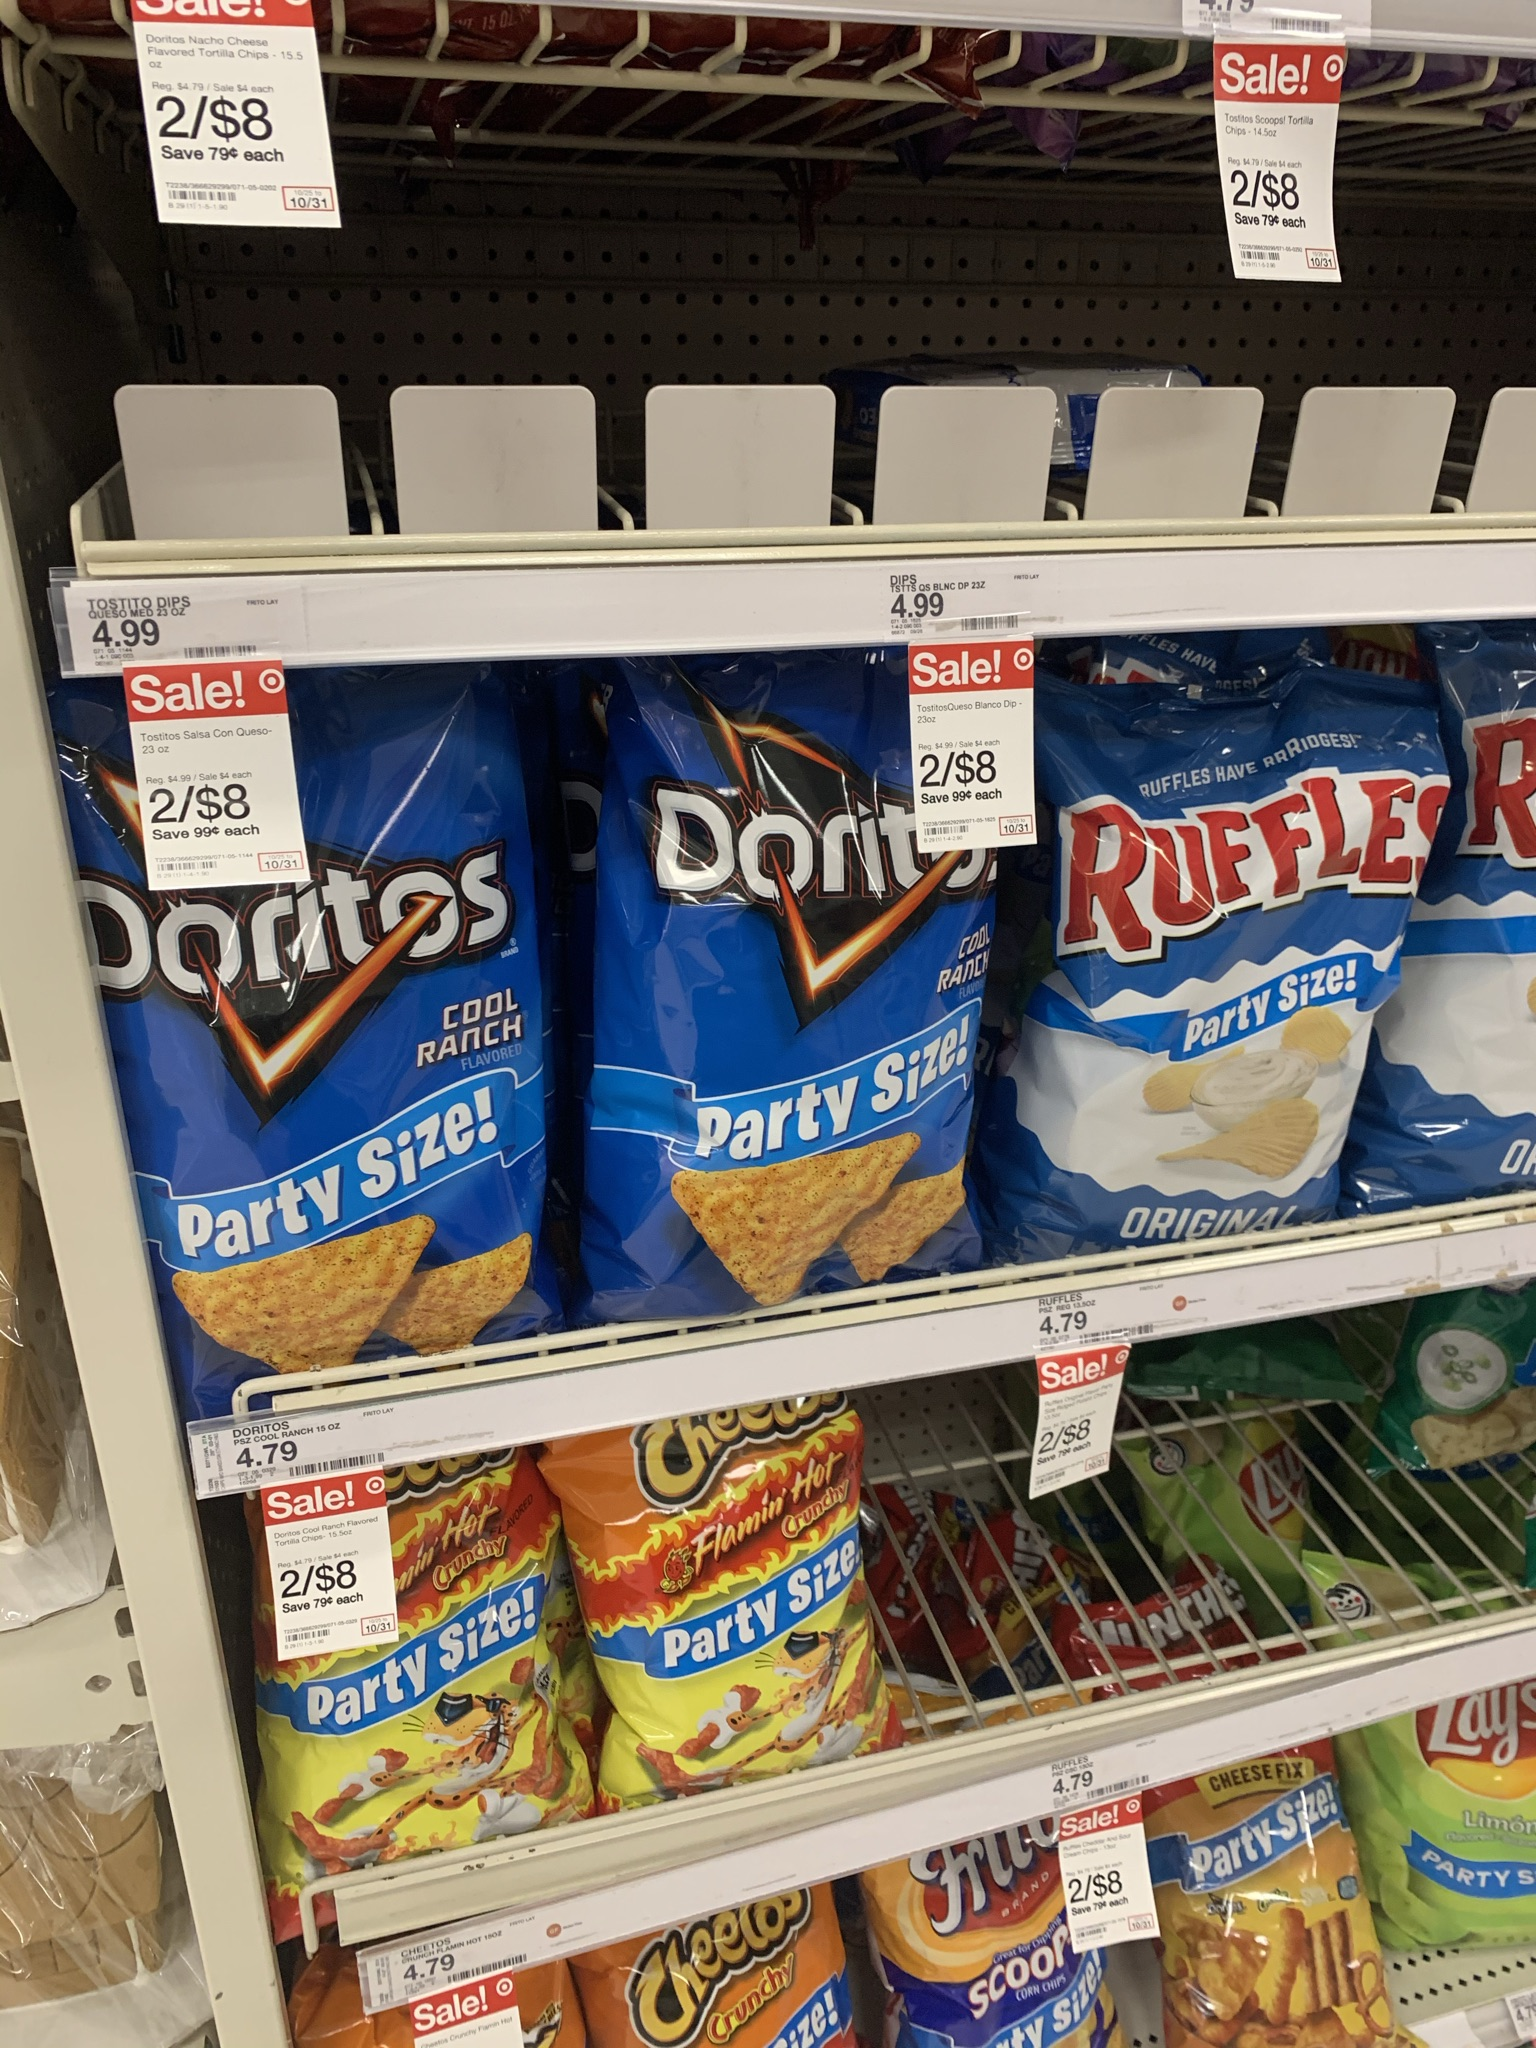Chips: (578, 668, 995, 1276)
